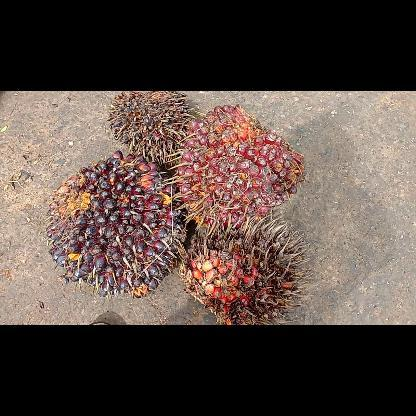Kurang masak: (42, 148, 186, 300)
TBS abnormal: (106, 92, 198, 166)
TBS masak: (171, 103, 307, 233)
Terlalu masak: (178, 216, 312, 324)
